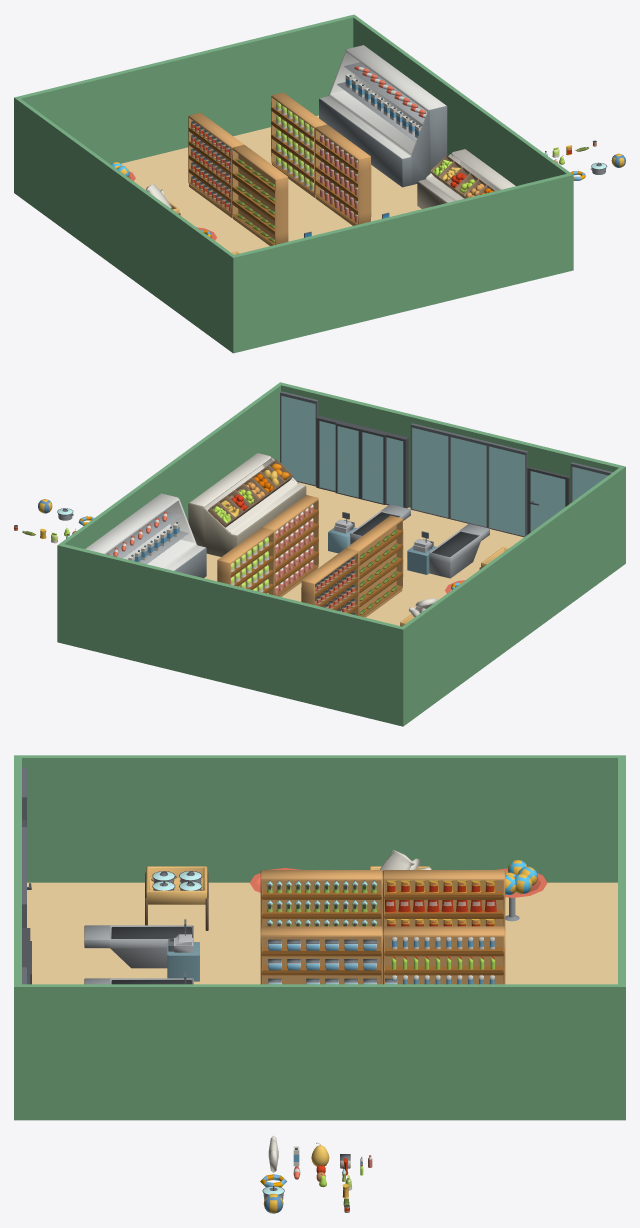
Rendered from MarketModeller.fbx.
3 renders of one model, top to bottom at view 1: azimuth 30°, elevation 25°; view 2: azimuth 150°, elevation 25°; view 3: azimuth 270°, elevation 25°, orthographic. The views are drawn at different scales.
Parts seen in each view (by area): view 1: Market, Sarkuteri, Raf4, Raf2, MeyveTezgah, Raf1, Raf3, Cylinder.134, Cylinder.225, Cylinder.286, Cube.059, Cylinder.178; view 2: Market, Camlar, MeyveTezgah, Sarkuteri, Raf4, Raf2, Kasa2, Raf1, Raf3, Cylinder.286, Kasa1, Cylinder.134 (+2 smaller); view 3: Market, Raf1, Raf4, Raf2, Kasa2, Raf3, Cylinder.026, Cube.071, Cylinder.034, Cylinder.218, Stand4, Camlar (+3 smaller).
Part boxes in pixels (left/top/right/bottom): Market: left=14, top=14, right=573, bottom=353; Sarkuteri: left=319, top=45, right=447, bottom=187; Raf4: left=232, top=144, right=288, bottom=245; Raf2: left=315, top=124, right=371, bottom=225; MeyveTezgah: left=417, top=149, right=515, bottom=208; Raf1: left=271, top=92, right=326, bottom=197; Raf3: left=188, top=112, right=243, bottom=218; Cylinder.134: left=191, top=121, right=230, bottom=211; Cylinder.225: left=275, top=101, right=313, bottom=190; Cylinder.286: left=320, top=134, right=357, bottom=222; Cube.059: left=345, top=74, right=421, bottom=138; Cylinder.178: left=354, top=66, right=426, bottom=118; Market: left=57, top=382, right=625, bottom=726; Camlar: left=280, top=391, right=612, bottom=537; MeyveTezgah: left=188, top=453, right=306, bottom=556; Sarkuteri: left=85, top=493, right=206, bottom=577; Raf4: left=346, top=515, right=403, bottom=617; Raf2: left=262, top=495, right=318, bottom=596; Kasa2: left=407, top=523, right=489, bottom=578; Raf1: left=217, top=527, right=274, bottom=595; Raf3: left=301, top=548, right=358, bottom=615; Cylinder.286: left=275, top=504, right=313, bottom=594; Kasa1: left=328, top=504, right=410, bottom=553; Cylinder.134: left=315, top=557, right=355, bottom=614; Market: left=14, top=755, right=625, bottom=1120; Raf1: left=383, top=926, right=505, bottom=984; Raf4: left=260, top=870, right=382, bottom=927; Raf2: left=260, top=926, right=382, bottom=984; Kasa2: left=84, top=919, right=199, bottom=981; Raf3: left=383, top=870, right=505, bottom=926; Cylinder.026: left=385, top=880, right=496, bottom=926; Cube.071: left=268, top=939, right=376, bottom=984; Cylinder.034: left=266, top=880, right=377, bottom=926; Cylinder.218: left=391, top=937, right=495, bottom=984; Stand4: left=145, top=866, right=208, bottom=930; Camlar: left=22, top=767, right=31, bottom=984.
Bounding box in the file's own units: 285 × 53.63 × 223.
